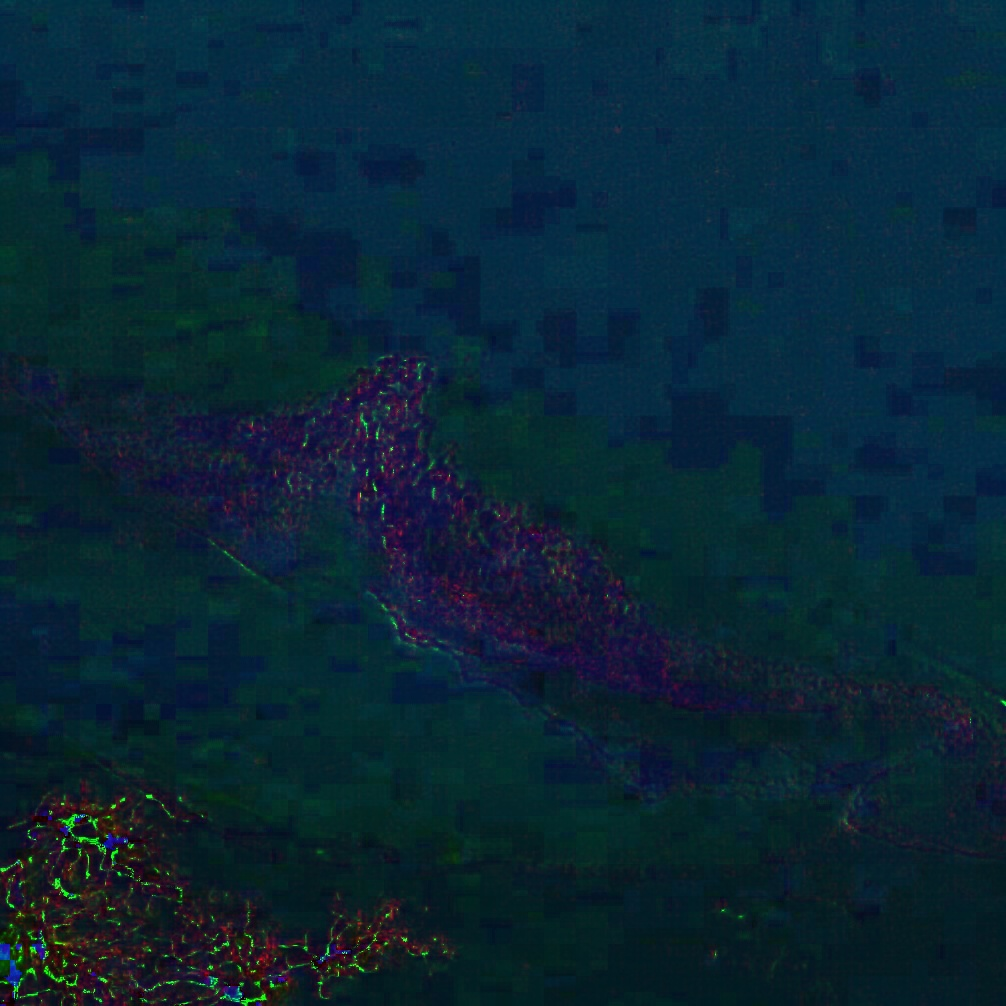rip_current: (195, 365, 435, 577)
